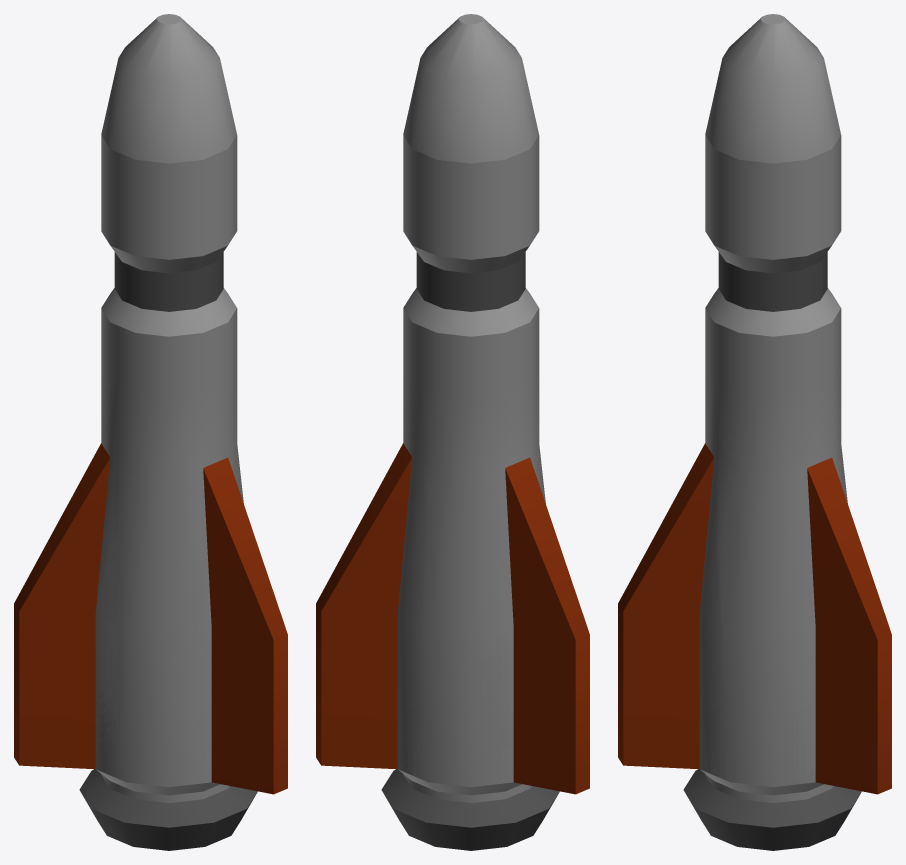
Rendered from Standard-Concussive-Missile-v01.glb.
3 views of the same model, side by side, from view 1: azimuth 30°, elevation 25°; view 2: azimuth 150°, elevation 25°; view 3: azimuth 270°, elevation 25° (orthographic).
Visible parts, largest first — view 1: Missile; view 2: Missile; view 3: Missile.
Part boxes in pixels (x1,y1,x2,y2): Missile: (14, 14, 287, 850); Missile: (316, 14, 589, 850); Missile: (618, 14, 891, 850).
Bounding box in the file's own units: 0.3221 × 1.04 × 0.3221.
